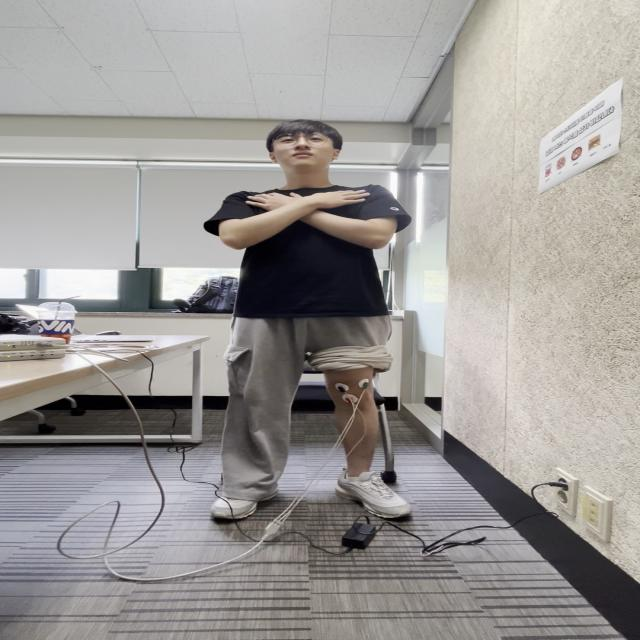stand: (235, 181, 389, 428), (318, 314, 416, 530), (231, 318, 283, 515)
